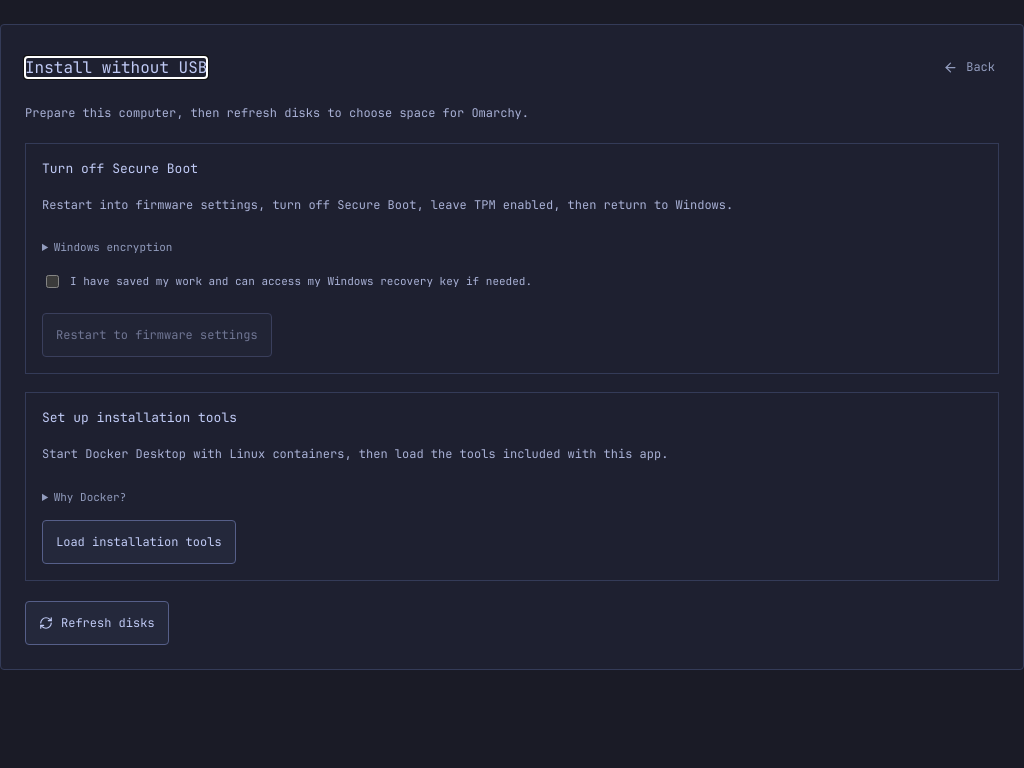
Scenario: separate Windows preparation › requires the saved-work and recovery acknowledgement before requesting a firmware restart
expect the button "Restart to firmware settings" is disabled: met, box [42,313,272,357]
expect the text "Prepare this computer, then refresh disks to choose space for Omarchy." is shown: met, box [25,105,529,121]
Click the checkbox.
click(52, 282)  # box [46,275,59,288]
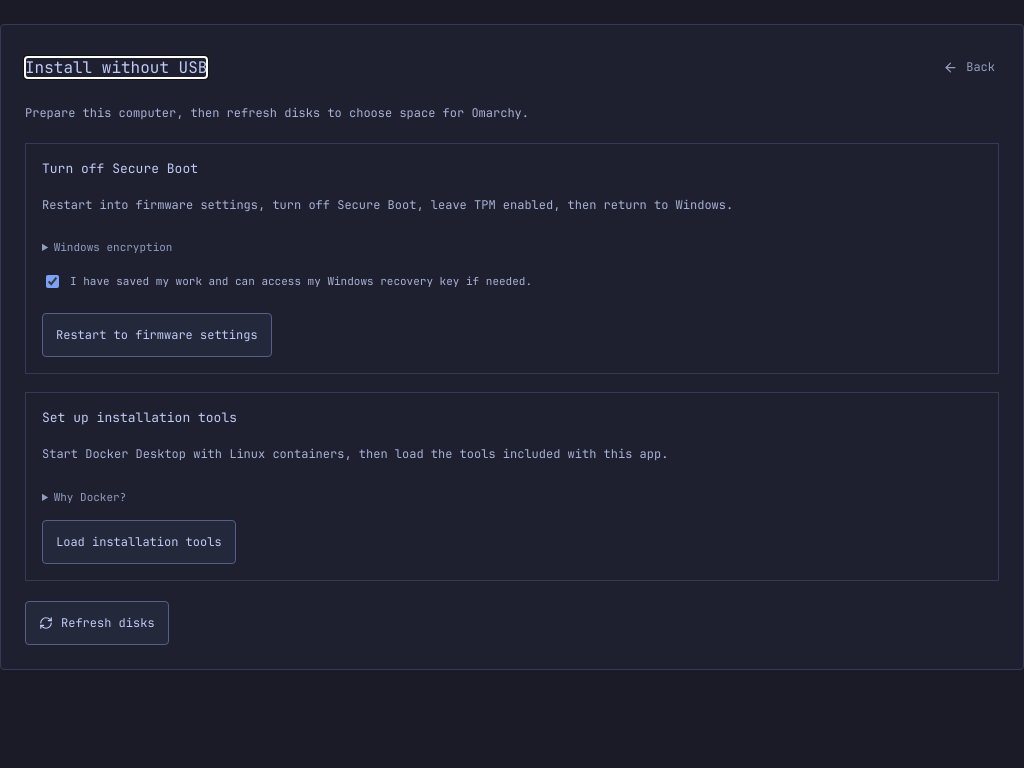
expect the button "Restart to firmware settings" is enabled: met
Click the button "Restart to firmware settings".
click(157, 335)  # box [42,313,272,357]
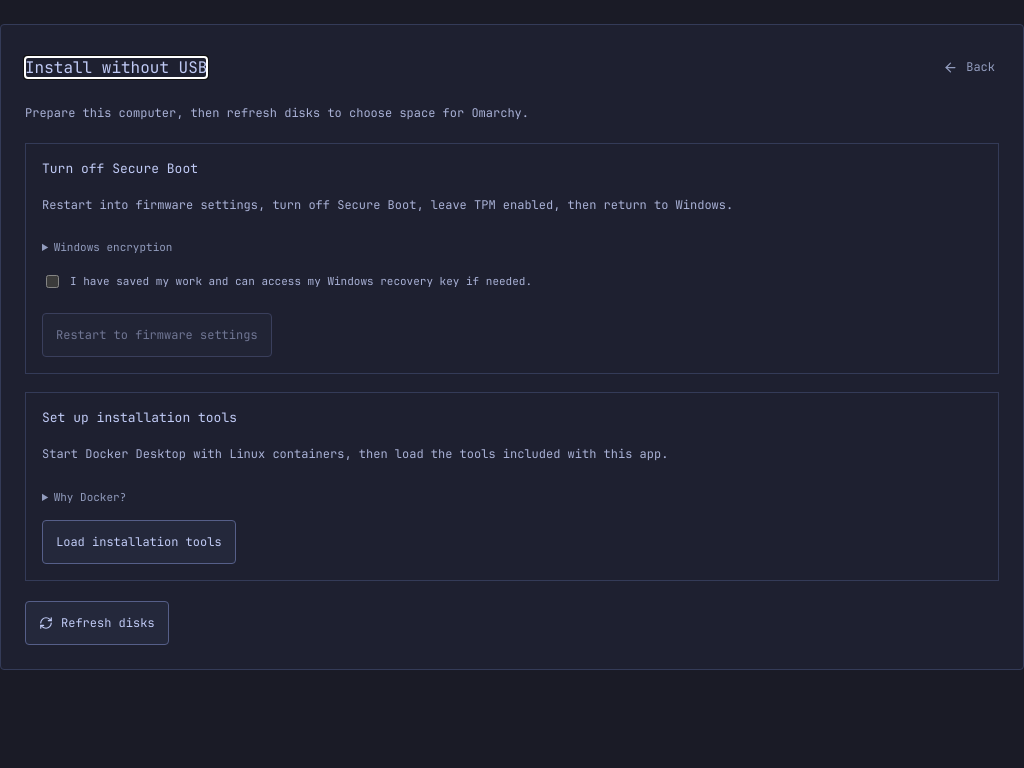
expect the text "leave TPM enabled" is shown: met, box [42,197,733,213]
expect the button "Restart to firmware settings" is disabled: met, box [42,313,272,357]
